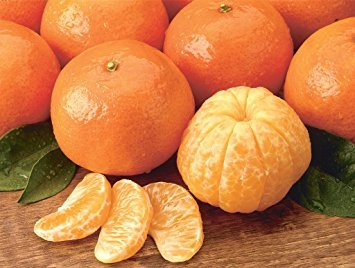orange: (42, 41, 193, 182), (158, 1, 299, 109), (34, 1, 172, 85), (284, 17, 355, 147), (1, 15, 61, 138)
